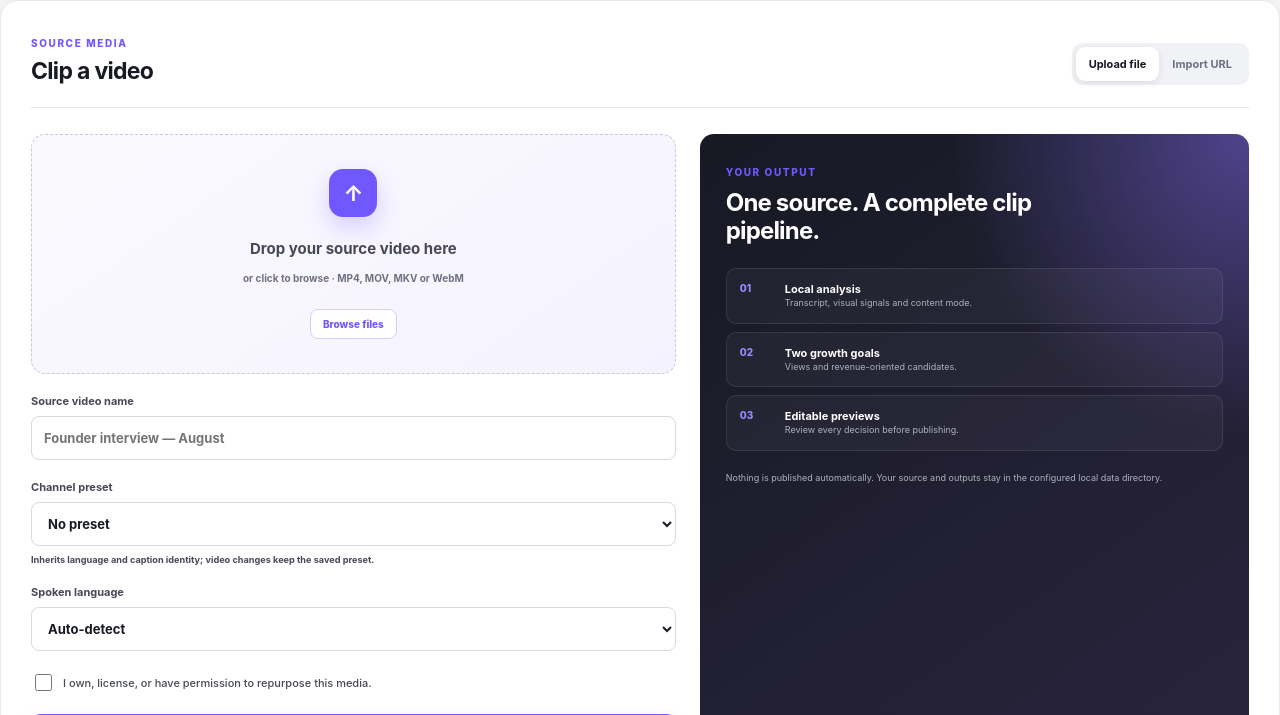
Test: project import › offers yt-dlp URL import with authorization
The width and height of the screenshot is (1280, 715).
Check: the text "Drop your source video here" is shown, box [250,239,457,258]
Check: the heading "One source. A complete clip pipeline." is shown, box [726,189,1056,244]
Click the tab "Import URL".
click(1202, 64)  # box [1159,47,1245,81]
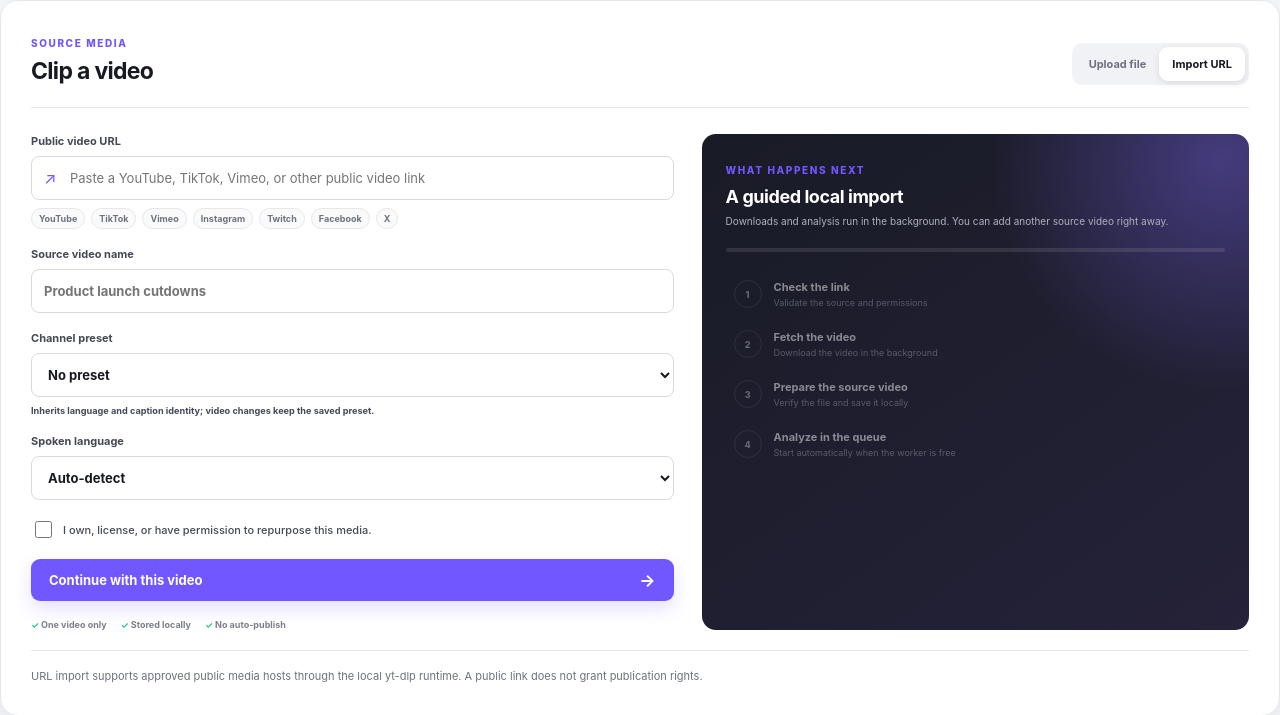
Type "https://www.youtube.com/watch?v=abc" into the field labelled "Public video URL".
click(352, 178); type("https://www.youtube.com/watch?v=abc")  # box [31,156,674,200]
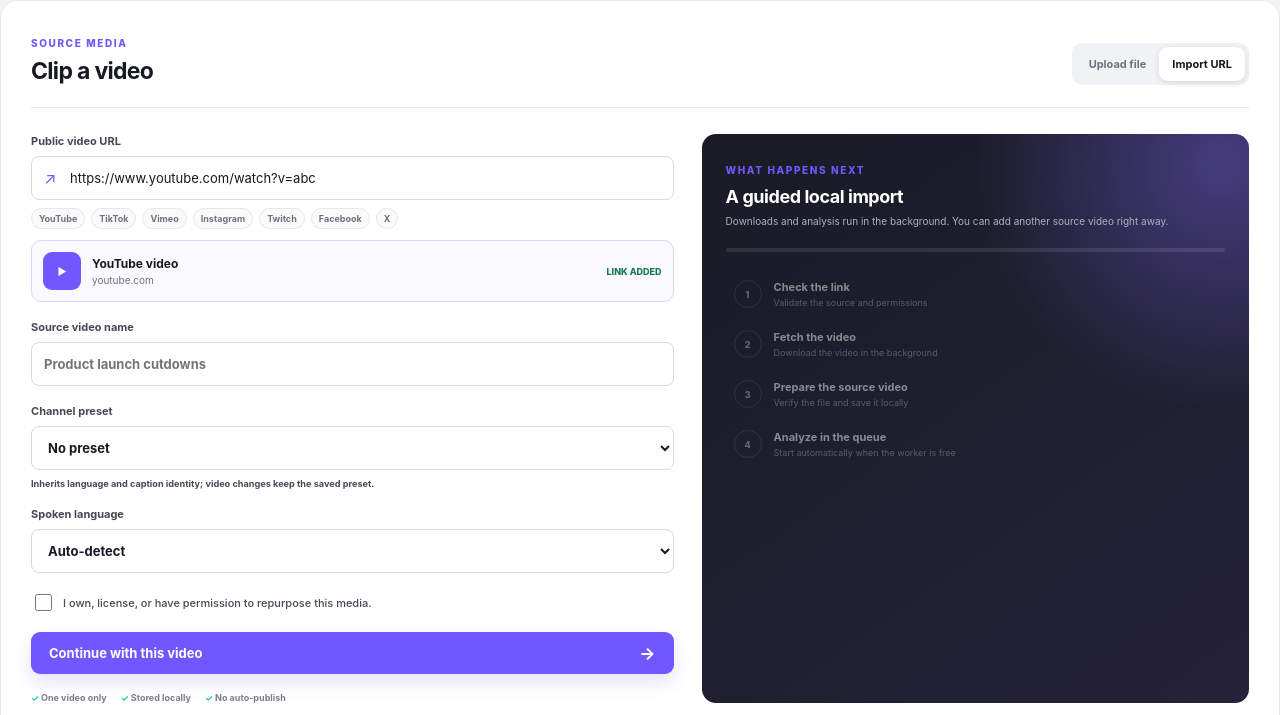
Check: the element named "Common supported sources" shows "TikTok", box [99,213,128,224]
Check: the text "A guided local import" is shown, box [726,186,903,207]
Check: the text "YouTube video" is shown, box [92,256,178,271]
